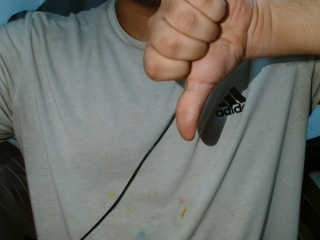Atras: (131, 1, 272, 148)
